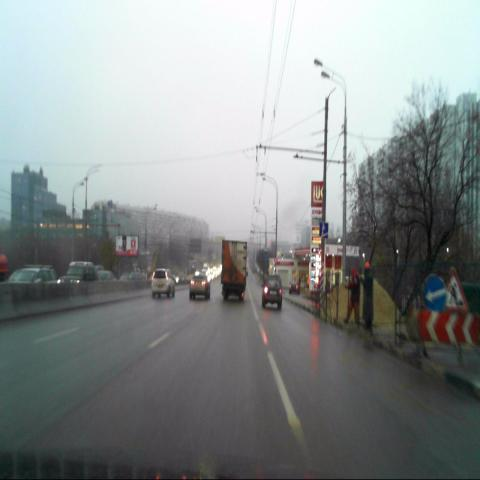4_1_2_2: (422, 273, 447, 310)
